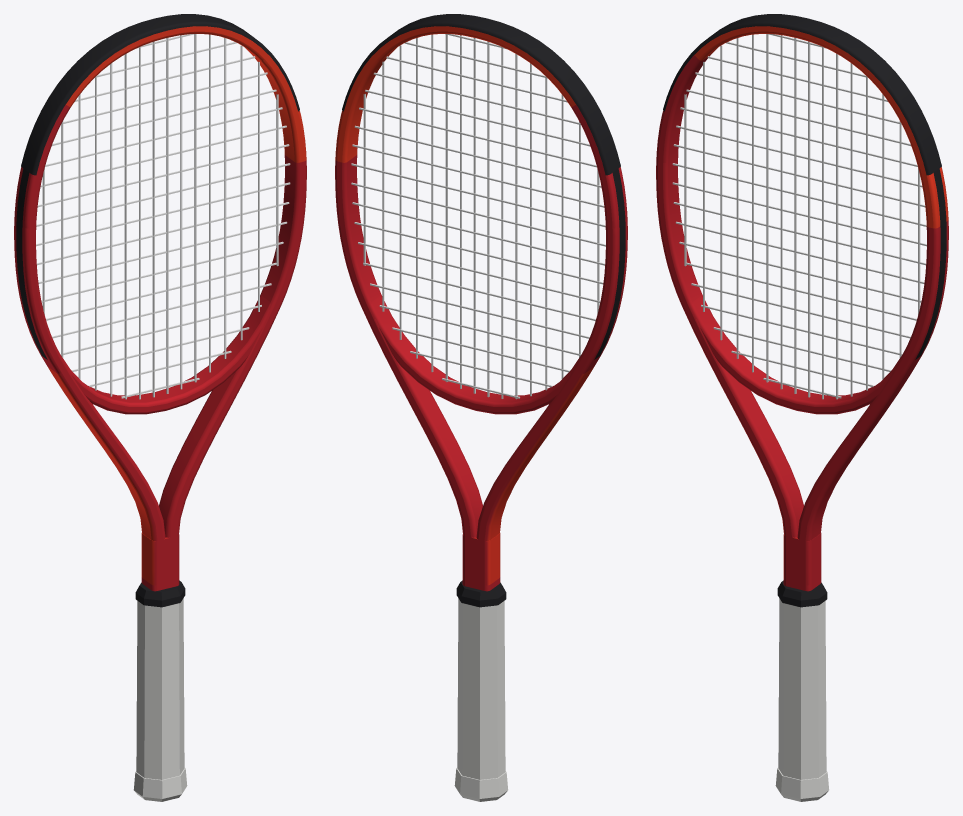
Rendered from dunlop-cx-200-ls-2027.glb.
3 views of the same model, side by side, from view 1: azimuth 30°, elevation 25°; view 2: azimuth 150°, elevation 25°; view 3: azimuth 330°, elevation 25° (orthographic).
Parts seen in each view (by area): view 1: frame, strings_mains, strings_crosses, grip, bumper, grommets, butt_cap, collar; view 2: frame, strings_mains, strings_crosses, grip, bumper, grommets, butt_cap, collar; view 3: frame, strings_mains, strings_crosses, grip, bumper, grommets, butt_cap, collar.
Boxes of the visible parts, box(x1,y1,x2,y2) form: frame: box(14, 26, 306, 591); strings_mains: box(42, 34, 278, 399); strings_crosses: box(36, 34, 290, 398); grip: box(136, 598, 184, 779); bumper: box(21, 14, 299, 175); grommets: box(16, 168, 47, 359); butt_cap: box(133, 768, 187, 801); collar: box(135, 580, 185, 607); frame: box(335, 26, 627, 591); strings_mains: box(363, 34, 599, 399); strings_crosses: box(351, 34, 605, 398); grip: box(457, 598, 505, 779); bumper: box(342, 14, 620, 175); grommets: box(594, 168, 625, 359); butt_cap: box(454, 768, 508, 801); collar: box(456, 580, 506, 607); frame: box(656, 26, 948, 591); strings_mains: box(684, 34, 920, 399); strings_crosses: box(672, 34, 926, 398); grip: box(778, 598, 826, 779); bumper: box(663, 14, 941, 175); grommets: box(915, 168, 946, 359); butt_cap: box(775, 768, 829, 801); collar: box(777, 580, 827, 607).
Bounding box in the file's own units: 0.2634 × 0.6861 × 0.0377.
